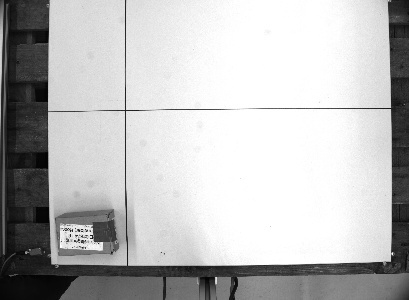b6: (53, 207, 121, 257)
